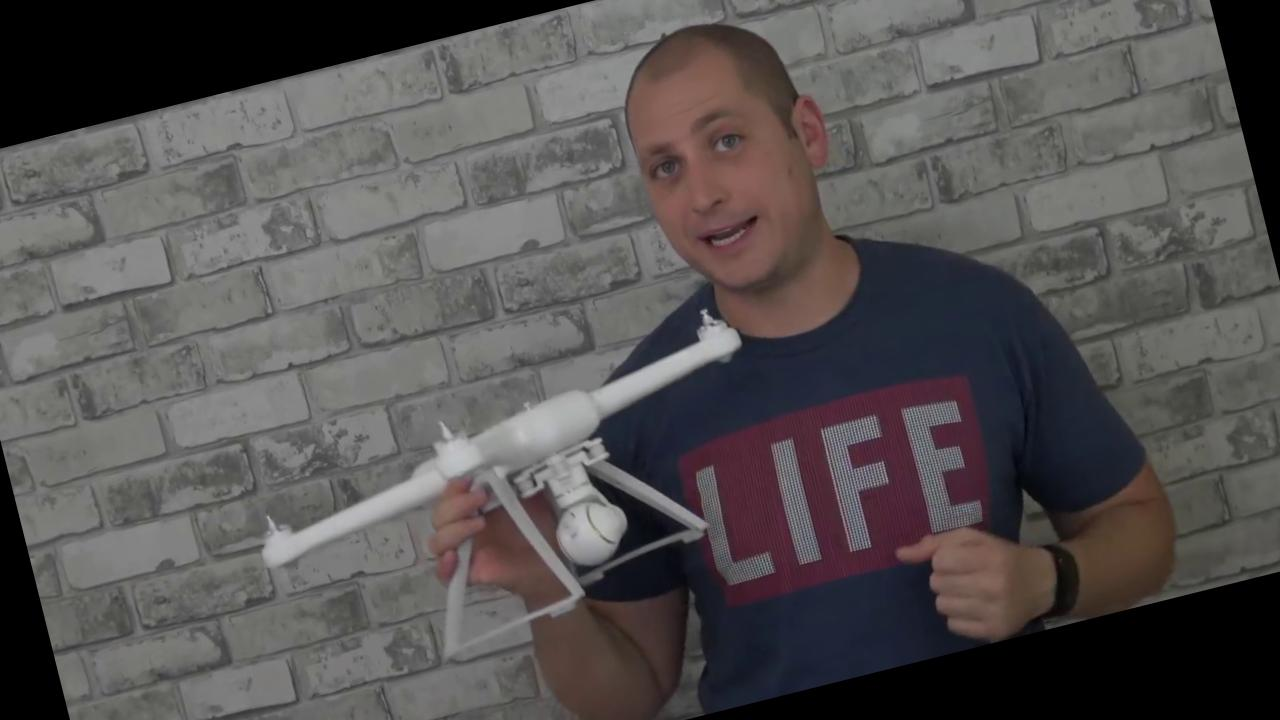drone: (218, 294, 790, 595)
